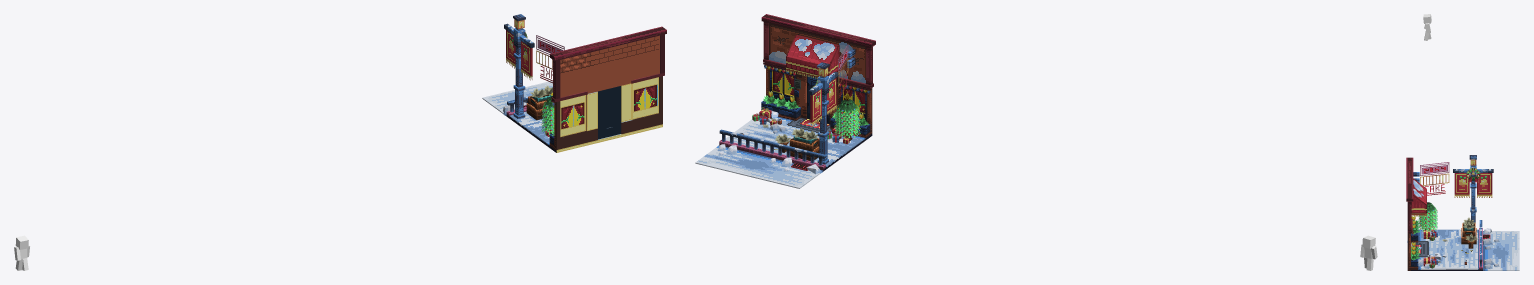
The picture shows the model from 3 angles, left to right: view 1: azimuth 30°, elevation 25°; view 2: azimuth 150°, elevation 25°; view 3: azimuth 270°, elevation 25°; orthographic projection. The views are drawn at different scales.
Parts seen in each view (by area): view 1: cube (×12); view 2: cube (×7); view 3: cube (×15), Hat Layer.
Boxes of the visible parts, left/top/right/bottom form: cube (×12): left=482, top=26, right=666, bottom=152; cube (×7): left=695, top=14, right=875, bottom=188; cube (×15): left=1406, top=157, right=1519, bottom=270; Hat Layer: left=1423, top=14, right=1431, bottom=23.
Bounding box in the file's own units: 43.33 × 6.69 × 8.88.
3 materials, 2 textured.
